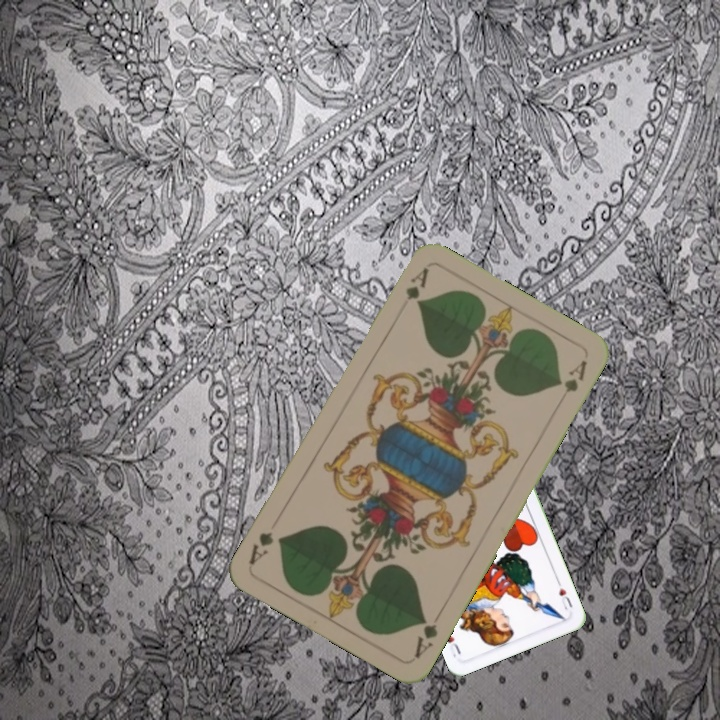GA: (410, 614, 441, 662), (401, 263, 432, 303)
HU: (553, 576, 575, 613)
